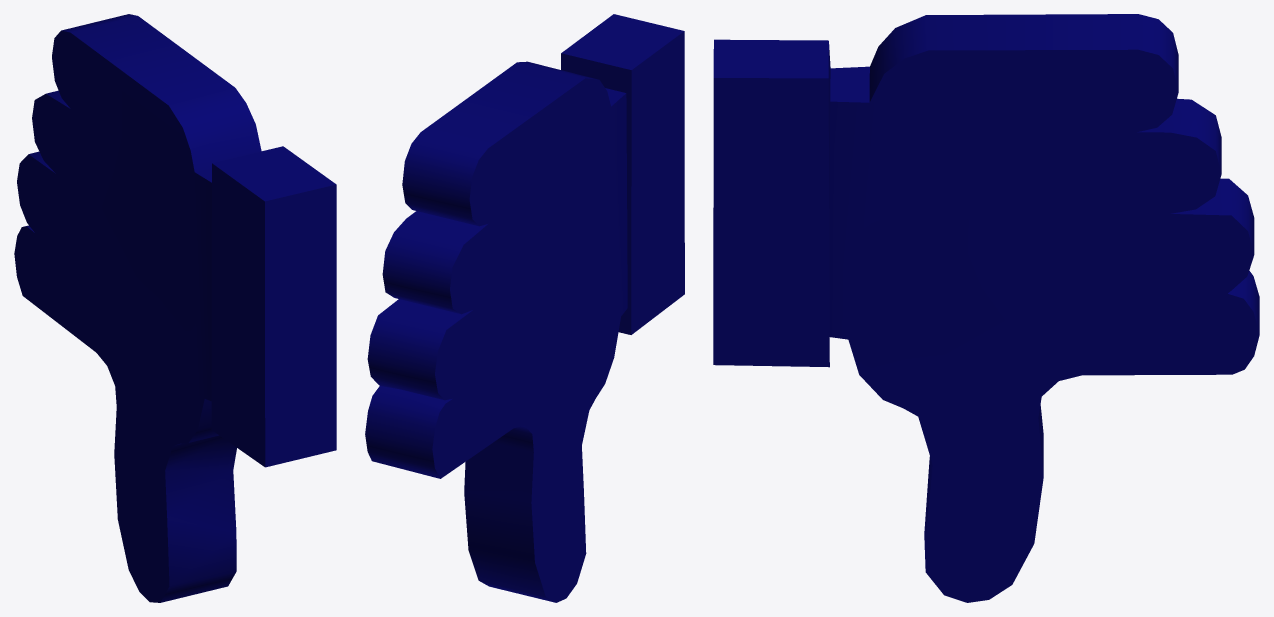
The model's file is Bad.fbx.
3 views of the same model, side by side, from view 1: azimuth 30°, elevation 25°; view 2: azimuth 150°, elevation 25°; view 3: azimuth 270°, elevation 25° (orthographic). The views are drawn at different scales.
Visible parts, largest first — view 1: 立方体; view 2: 立方体; view 3: 立方体.
Part boxes in pixels (box(x1,y1,x2,y2)): 立方体: box(14, 14, 336, 602); 立方体: box(365, 14, 684, 602); 立方体: box(713, 14, 1259, 602).
Bounding box in the file's own units: 49.6 × 339 × 304.
